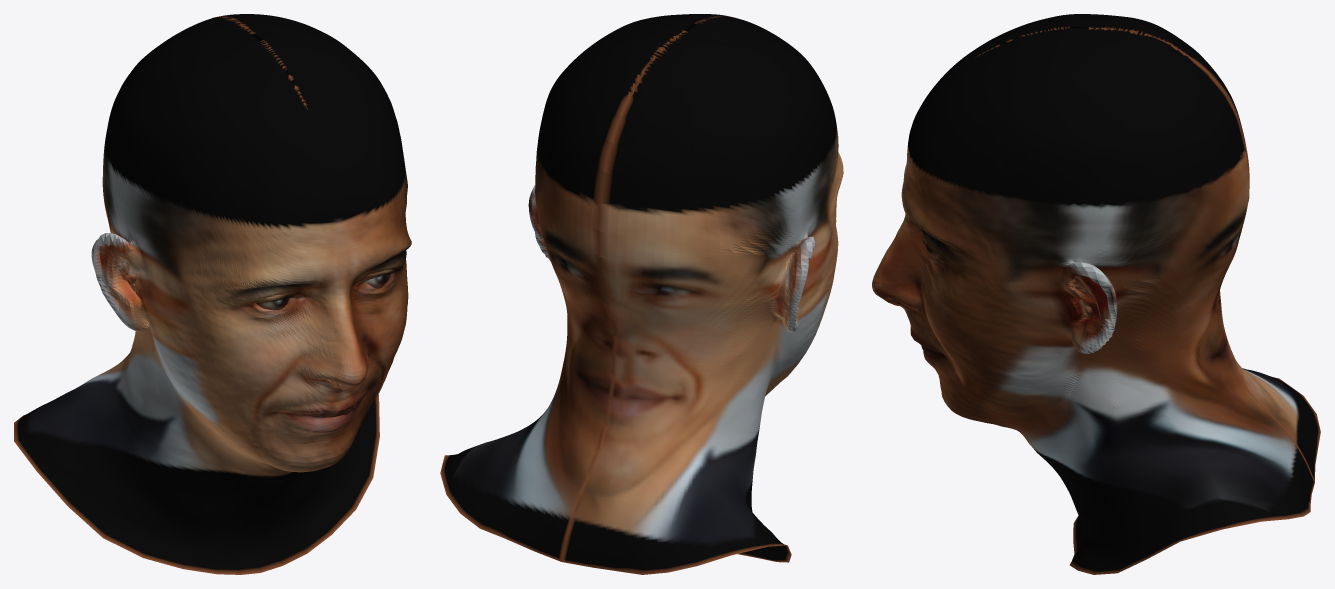
The model's file is mesh_coarse_detail.obj.
3 renders of one model, left to right at view 1: azimuth 30°, elevation 25°; view 2: azimuth 150°, elevation 25°; view 3: azimuth 270°, elevation 25°, orthographic.
Bounding box in the file's own units: 0.2177 × 0.3297 × 0.2546.
